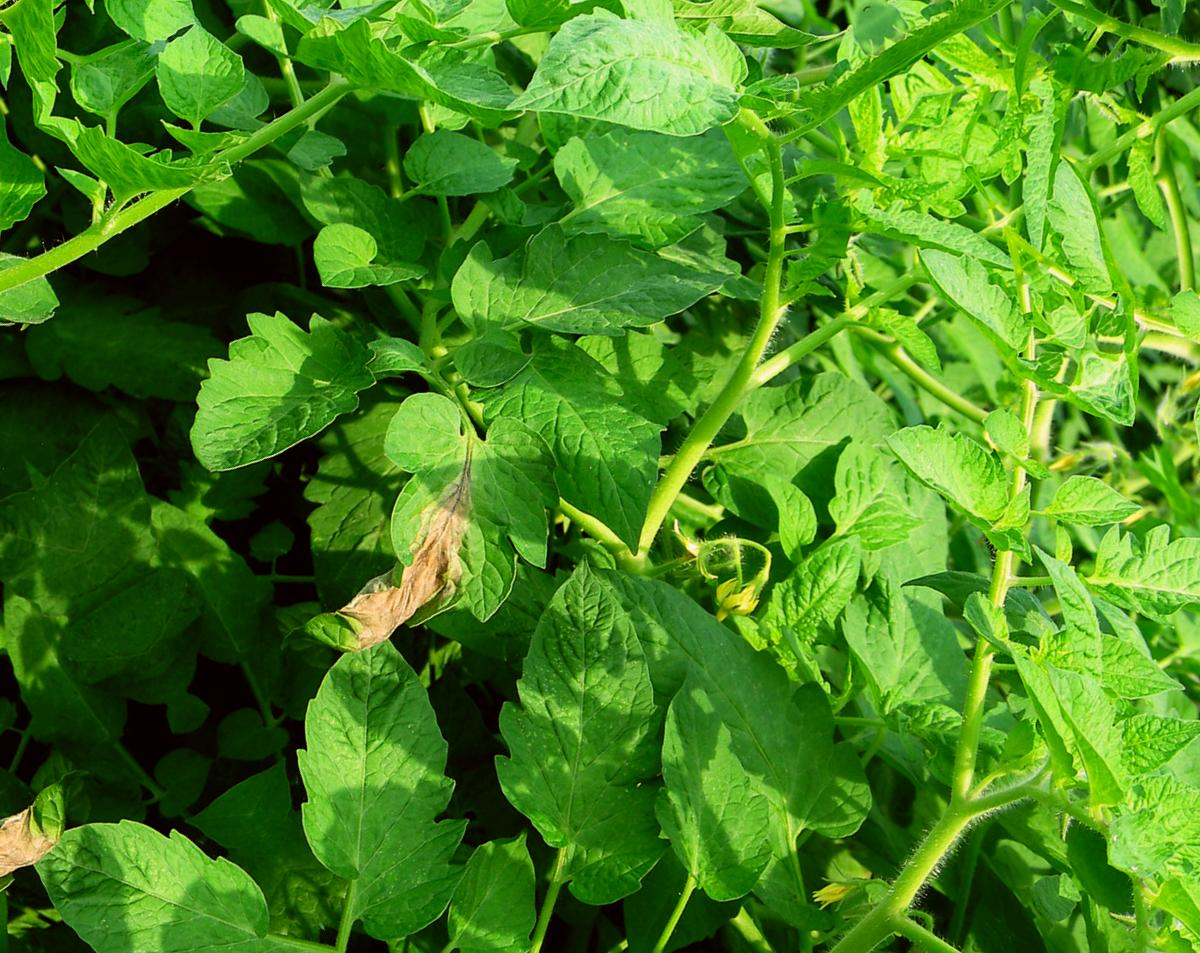Tomato leaf late blight: (391, 549, 764, 939), (402, 126, 761, 452), (220, 627, 528, 953), (285, 374, 582, 671), (494, 47, 783, 304), (136, 249, 422, 507), (587, 672, 827, 920), (878, 386, 1030, 567), (406, 813, 587, 953), (313, 0, 555, 85)
